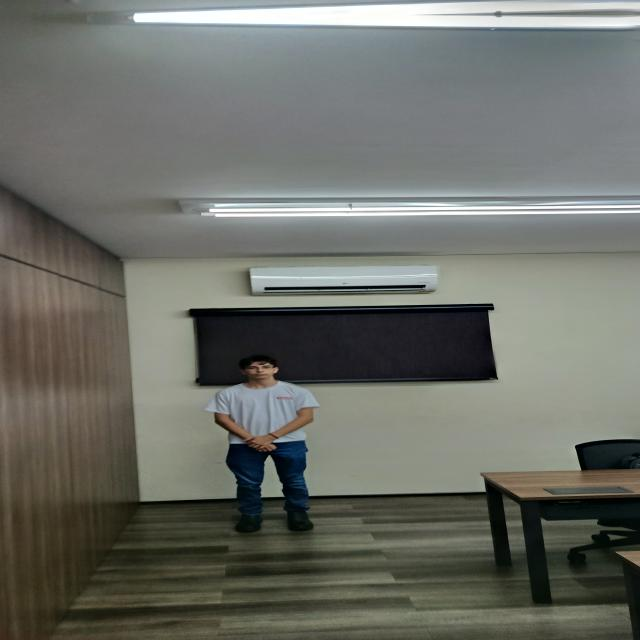sem_oculos: (247, 367, 273, 371)
